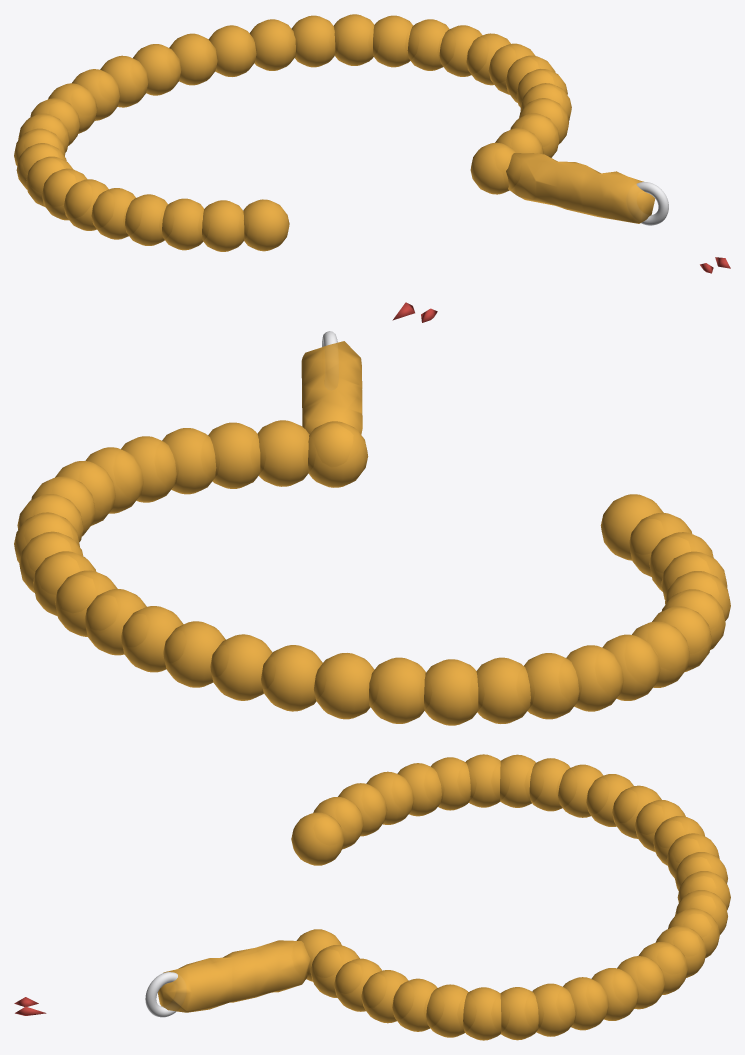
Rendered from tespih.glb.
3 views of the same model, one above another, from view 1: azimuth 30°, elevation 25°; view 2: azimuth 150°, elevation 25°; view 3: azimuth 270°, elevation 25° (orthographic). The views are drawn at different scales.
Visible parts, largest first — view 1: imame, bead_32, bead_31, bead_14, bead_13, bead_15, bead_30, bead_12, bead_16, bead_29, bead_11, bead_00 (+23 smaller); view 2: imame, bead_00, bead_19, bead_18, bead_20, bead_17, bead_16, bead_21, bead_01, bead_15, bead_22, bead_02 (+22 smaller); view 3: imame, bead_32, bead_06, bead_07, bead_05, bead_08, bead_04, bead_09, bead_03, bead_10, bead_26, bead_25 (+23 smaller).
Part boxes in pixels (x1,y1,x2,y2): imame: (506,153,655,223); bead_32: (243,199,289,251); bead_31: (202,200,244,251); bead_14: (249,19,295,70); bead_13: (291,15,335,67); bead_15: (208,25,256,76); bead_30: (162,198,204,250); bead_12: (333,14,374,65); bead_16: (169,33,217,85); bead_29: (125,194,167,245); bead_11: (373,15,413,67); bead_00: (470,142,515,194); imame: (301,341,362,434); bead_00: (308,421,368,487); bead_19: (369,657,425,723); bead_18: (314,653,374,719); bead_20: (424,659,478,725); bead_17: (261,645,322,711); bead_16: (210,634,272,700); bead_21: (476,657,530,723); bead_01: (257,420,309,486); bead_15: (163,621,225,687); bead_22: (524,653,579,719); bead_02: (208,422,260,488); imame: (158,940,310,1012); bead_32: (291,812,344,865); bead_06: (463,987,501,1040); bead_07: (500,987,538,1040); bead_05: (426,984,468,1037); bead_08: (532,983,575,1036); bead_04: (392,978,437,1031); bead_09: (563,977,608,1030); bead_03: (361,970,408,1023); bead_10: (591,968,638,1020); bead_26: (465,754,500,807); bead_25: (500,754,535,807).
Size of the model in its own units: 0.1313 by 0.0116 by 0.1558.
